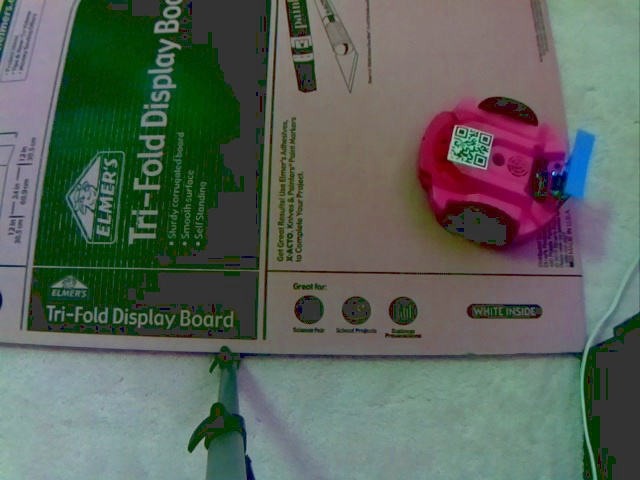board: (540, 127, 595, 203)
chassis: (416, 90, 598, 248)
